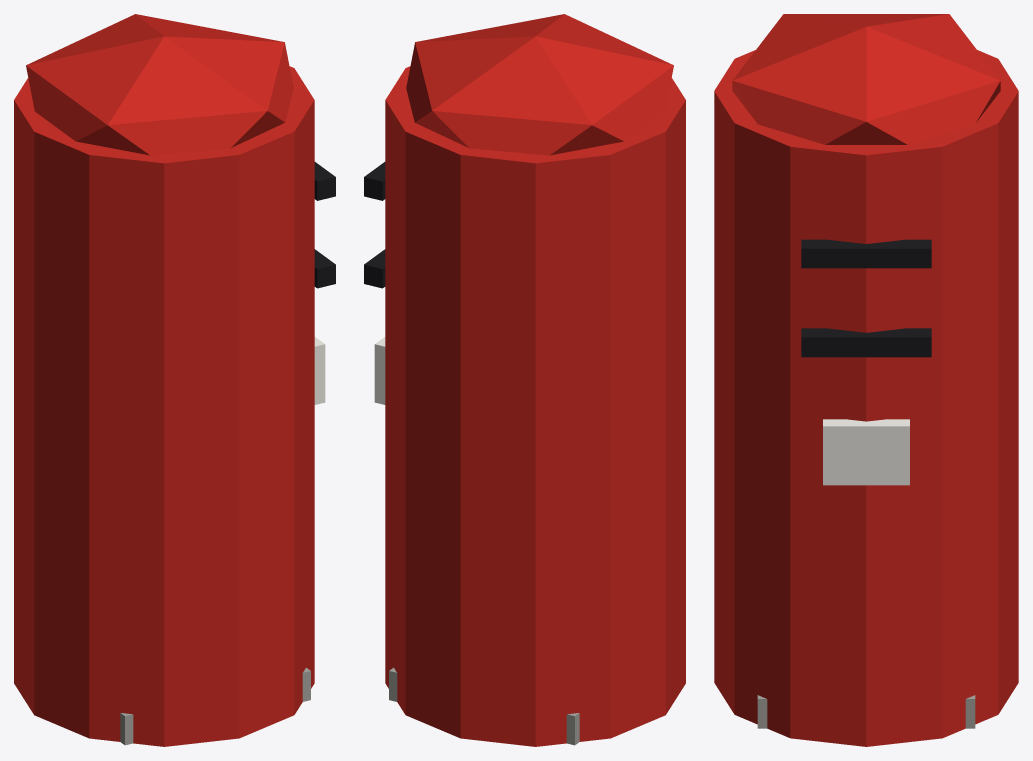
File: postlada.glb
3 views of the same model, side by side, from view 1: azimuth 30°, elevation 25°; view 2: azimuth 150°, elevation 25°; view 3: azimuth 270°, elevation 25° (orthographic).
Parts seen in each view (by area): view 1: postlada; view 2: postlada; view 3: postlada.
Part boxes in pixels (box(x1,y1,x2,y2)): postlada: box(14, 14, 335, 746); postlada: box(364, 14, 685, 746); postlada: box(714, 14, 1018, 746).
Size of the model in its own units: 0.58 by 1.33 by 0.56.
